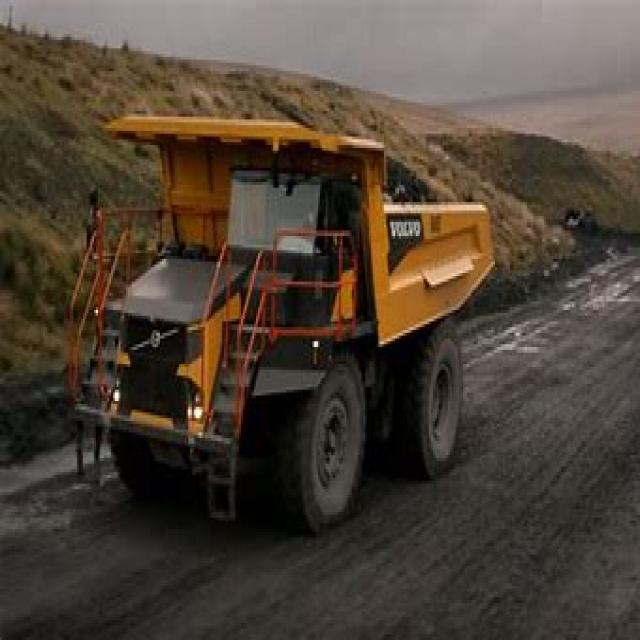dump_truck: (66, 85, 508, 532)
